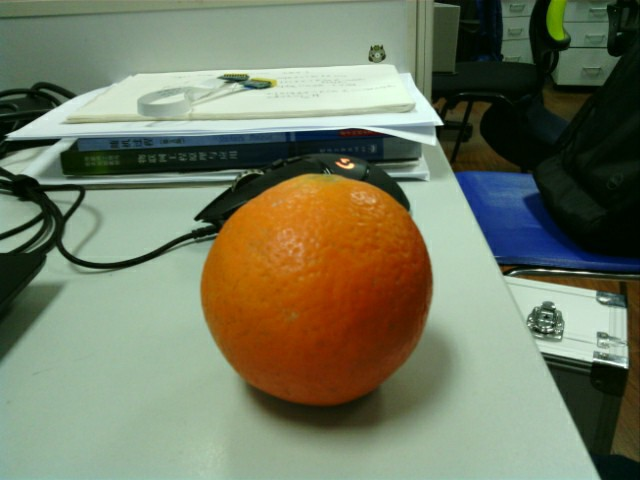normal_orange: (202, 171, 438, 409)
